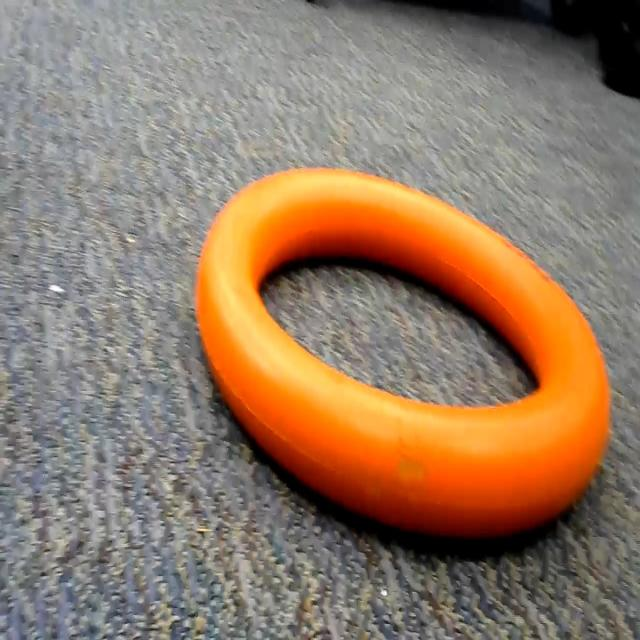note: (186, 148, 622, 588)
